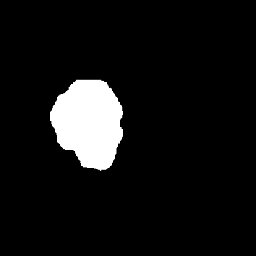mass: (62, 83, 118, 170)
